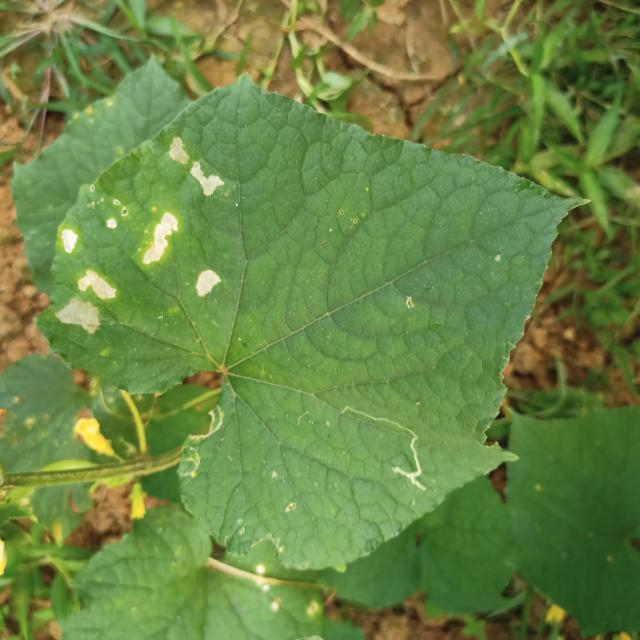disease_cucumber: (54, 228, 119, 336), (100, 192, 182, 270), (158, 129, 226, 200), (191, 259, 225, 305)
